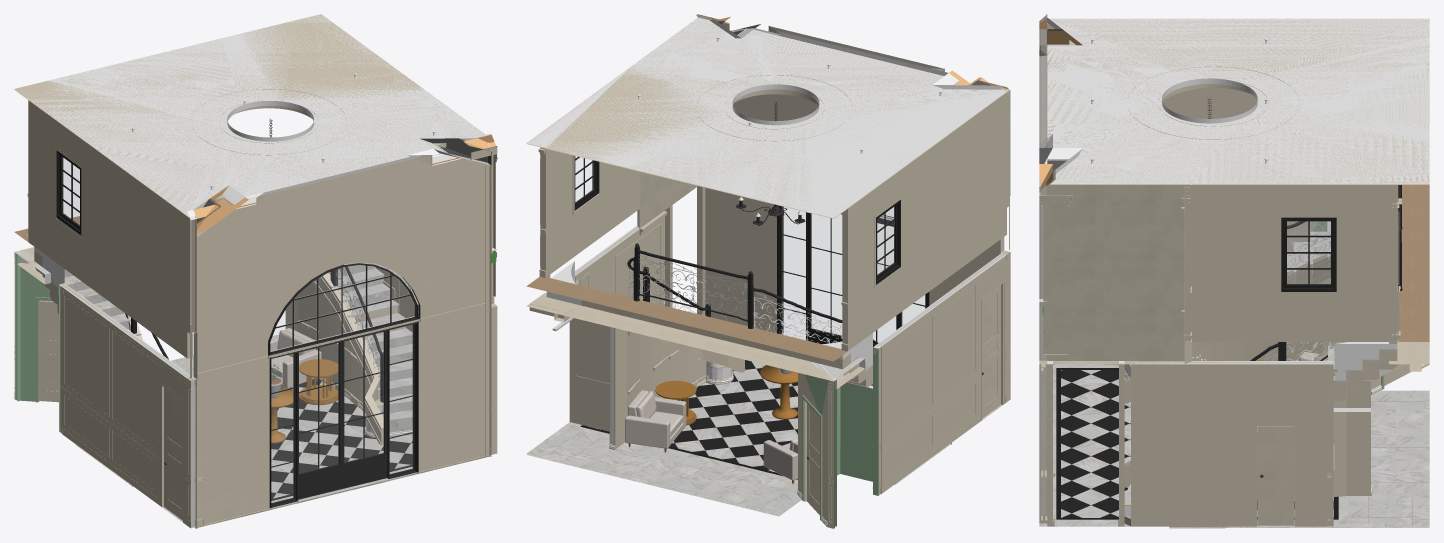
File: entry-35b3ae53195a.glb
3 views of the same model, side by side, from view 1: azimuth 30°, elevation 25°; view 2: azimuth 150°, elevation 25°; view 3: azimuth 270°, elevation 25° (orthographic). The views are drawn at different scales.
Visible parts, largest first — view 1: entry-9d91b47435c6fb33, entry-4edf3a9420c06709, entry-e8793759323e04f0, entry-698abdfdc6fb970d, entry-9ca48b730e5de4b2, entry-746250f96522f643, entry-85f0fd939e0fcc78, entry-8d5f500af8e4c699, entry-785988ccf932ddd5, entry-c4ac463b6a960119, entry-969fb0f33943ba89, entry-e5ab66ee68e20e07 (+18 smaller); view 2: entry-9d91b47435c6fb33, entry-746250f96522f643, entry-e8793759323e04f0, entry-85f0fd939e0fcc78, entry-2575515a05775d9e, entry-d5a4a1b5d3594c04, entry-698abdfdc6fb970d, entry-ba376bd68a22f7f3, entry-c4ac463b6a960119, entry-c51ecd664a3b22a3, entry-8b5649904563319a, entry-6a051330000fbca1 (+28 smaller); view 3: entry-9d91b47435c6fb33, entry-6a051330000fbca1, entry-c51ecd664a3b22a3, entry-e8793759323e04f0, entry-62353aa10fc57f23, entry-c4ac463b6a960119, entry-ba376bd68a22f7f3, entry-2575515a05775d9e, entry-20932135983111ad, entry-489e9ad801b4b62e, entry-80d276f58a4dc5cb, entry-224035c89a69c041 (+18 smaller).
Boxes of the visible parts, <box> form: entry-9d91b47435c6fb33: <box>14,14,485,218</box>; entry-4edf3a9420c06709: <box>195,150,491,372</box>; entry-e8793759323e04f0: <box>14,14,483,217</box>; entry-698abdfdc6fb970d: <box>269,322,418,508</box>; entry-9ca48b730e5de4b2: <box>195,302,490,526</box>; entry-746250f96522f643: <box>28,100,192,358</box>; entry-85f0fd939e0fcc78: <box>60,283,192,525</box>; entry-8d5f500af8e4c699: <box>268,262,420,358</box>; entry-785988ccf932ddd5: <box>196,150,491,373</box>; entry-c4ac463b6a960119: <box>271,379,412,498</box>; entry-969fb0f33943ba89: <box>196,302,490,526</box>; entry-e5ab66ee68e20e07: <box>297,282,369,403</box>; entry-9d91b47435c6fb33: <box>526,17,1008,218</box>; entry-746250f96522f643: <box>842,92,1006,350</box>; entry-e8793759323e04f0: <box>528,18,1008,210</box>; entry-85f0fd939e0fcc78: <box>873,253,1006,494</box>; entry-2575515a05775d9e: <box>526,275,851,381</box>; entry-d5a4a1b5d3594c04: <box>706,188,1007,385</box>; entry-698abdfdc6fb970d: <box>777,205,929,346</box>; entry-ba376bd68a22f7f3: <box>540,428,800,515</box>; entry-c4ac463b6a960119: <box>586,360,797,472</box>; entry-c51ecd664a3b22a3: <box>540,147,639,277</box>; entry-8b5649904563319a: <box>570,281,609,431</box>; entry-6a051330000fbca1: <box>569,219,663,421</box>; entry-9d91b47435c6fb33: <box>1041,18,1429,184</box>; entry-6a051330000fbca1: <box>1131,361,1333,526</box>; entry-c51ecd664a3b22a3: <box>1192,184,1398,341</box>; entry-e8793759323e04f0: <box>1042,14,1429,183</box>; entry-62353aa10fc57f23: <box>1047,184,1191,364</box>; entry-c4ac463b6a960119: <box>1061,370,1333,517</box>; entry-ba376bd68a22f7f3: <box>1348,390,1429,523</box>; entry-2575515a05775d9e: <box>1389,185,1429,364</box>; entry-20932135983111ad: <box>1281,217,1336,291</box>; entry-489e9ad801b4b62e: <box>1043,195,1067,354</box>; entry-80d276f58a4dc5cb: <box>1257,426,1294,525</box>; entry-224035c89a69c041: <box>1346,380,1370,495</box>.
Bounding box in the file's own units: 6.54 × 6.44 × 6.51.
48 materials, 9 textured.
